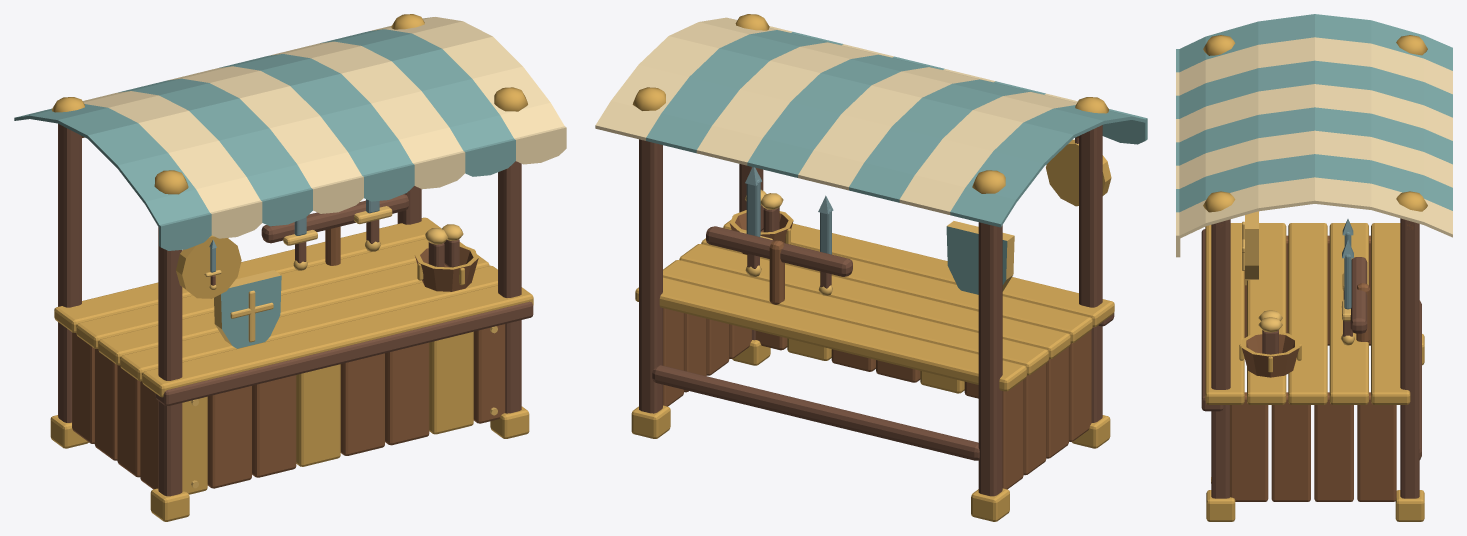
Rendered from equipment-stall.fbx.
The picture shows the model from 3 angles, left to right: view 1: azimuth 30°, elevation 25°; view 2: azimuth 150°, elevation 25°; view 3: azimuth 270°, elevation 25°; orthographic projection. The views are drawn at different scales.
Parts seen in each view (by area): view 1: equipment-stall; view 2: equipment-stall; view 3: equipment-stall.
Part boxes in pixels (box(x1,y1,x2,y2)): equipment-stall: box(14, 14, 566, 521); equipment-stall: box(595, 14, 1147, 521); equipment-stall: box(1176, 14, 1452, 521).
Bounding box in the file's own units: 320 × 265 × 201.
